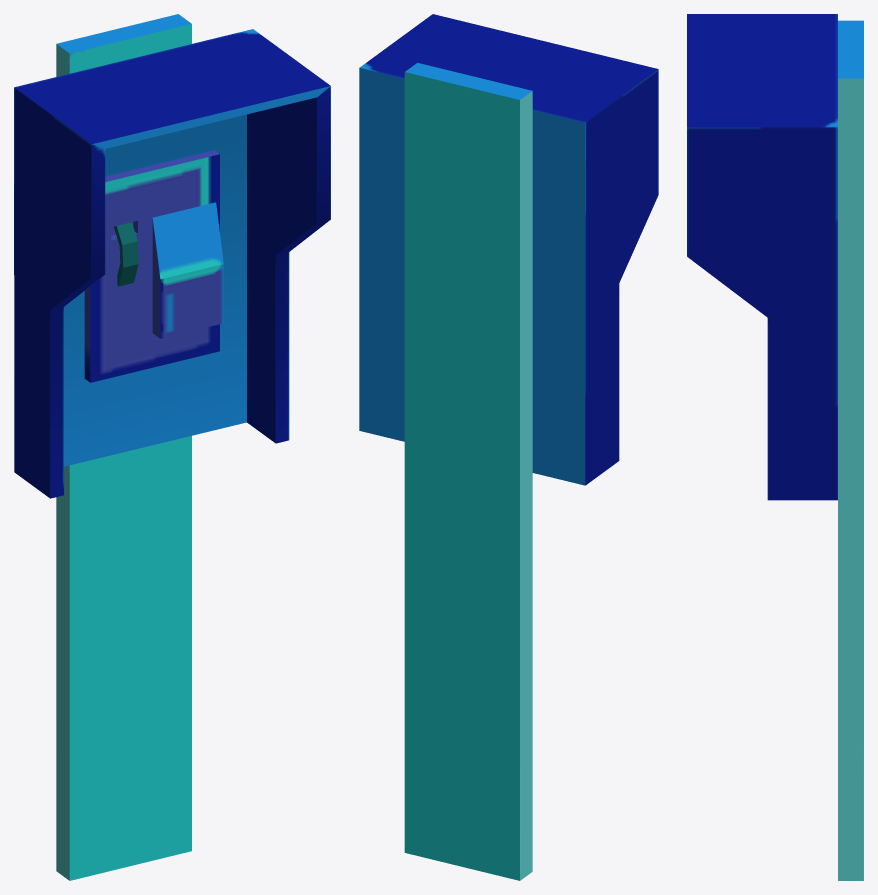
The model's file is phonebooth.fbx.
3 views of the same model, side by side, from view 1: azimuth 30°, elevation 25°; view 2: azimuth 150°, elevation 25°; view 3: azimuth 270°, elevation 25° (orthographic). The views are drawn at different scales.
Parts seen in each view (by area): view 1: phoneboth; view 2: phoneboth; view 3: phoneboth.
Part boxes in pixels (<box>): phoneboth: <box>14,14,330,880</box>; phoneboth: <box>359,14,658,880</box>; phoneboth: <box>687,14,863,880</box>.
Size of the model in its own units: 57.13 by 189 by 37.71.
